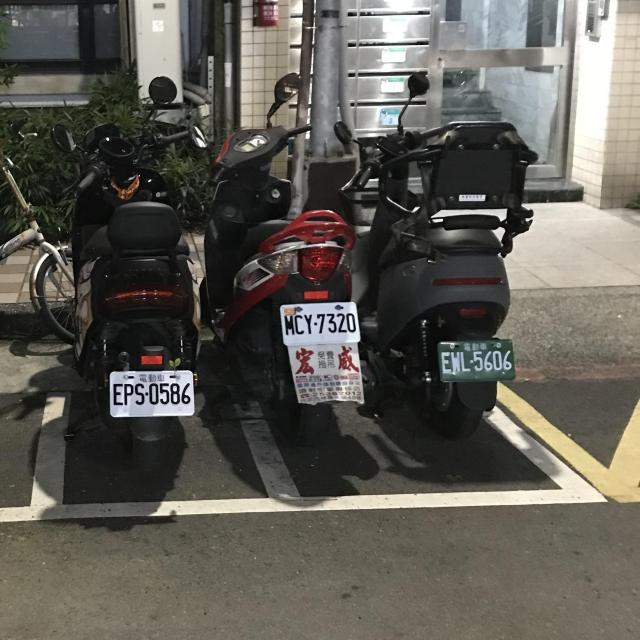W: (106, 367, 197, 419), (432, 333, 518, 387), (274, 298, 364, 349)
